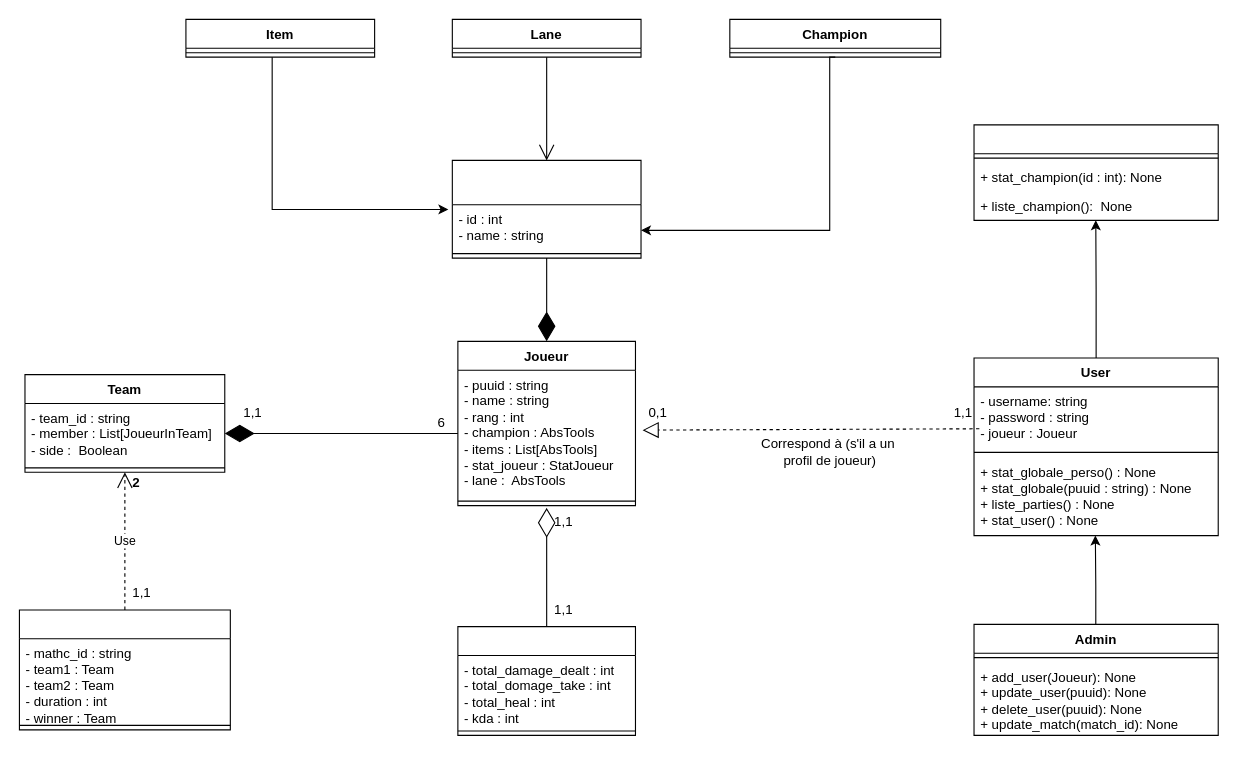
Image size: 1238x758. Some labels were removed from this diagram. Here are the shapes that lost their labels. From the top down, the box of each, then its label:
(973, 124, 1218, 220): Invite
(451, 159, 641, 258): «abstract» AbsTools
(18, 609, 230, 730): Match
(457, 625, 635, 735): StatJoueur
